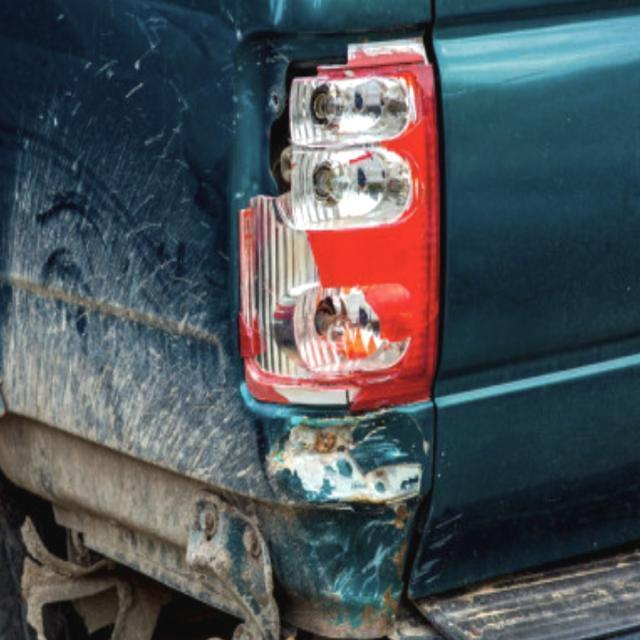minor: (257, 50, 433, 402)
moderate: (260, 412, 432, 611)
